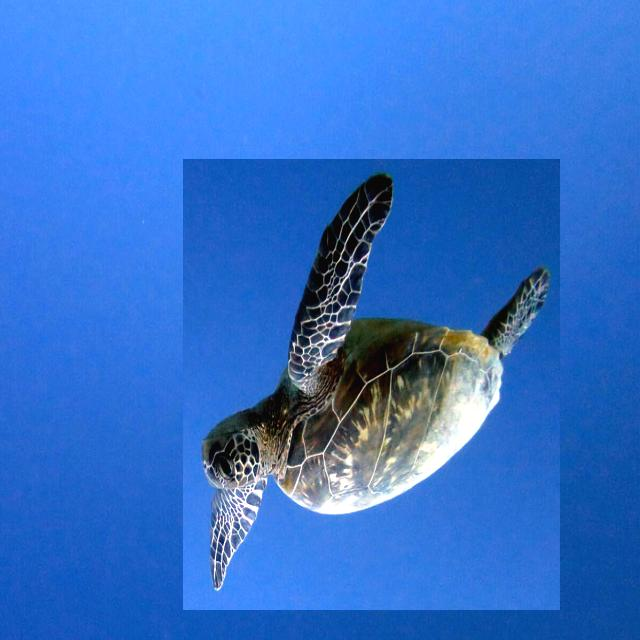Sea turtle: (184, 159, 562, 610)
